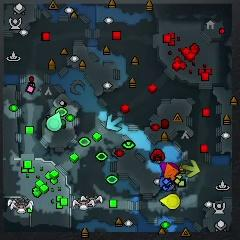p1: (159, 176, 170, 188)
p2: (47, 112, 61, 131)
p3: (159, 162, 179, 174)
p4: (160, 193, 180, 209)
p5: (162, 163, 180, 181)
x2: (181, 159, 200, 177)
x3: (106, 115, 123, 132)
